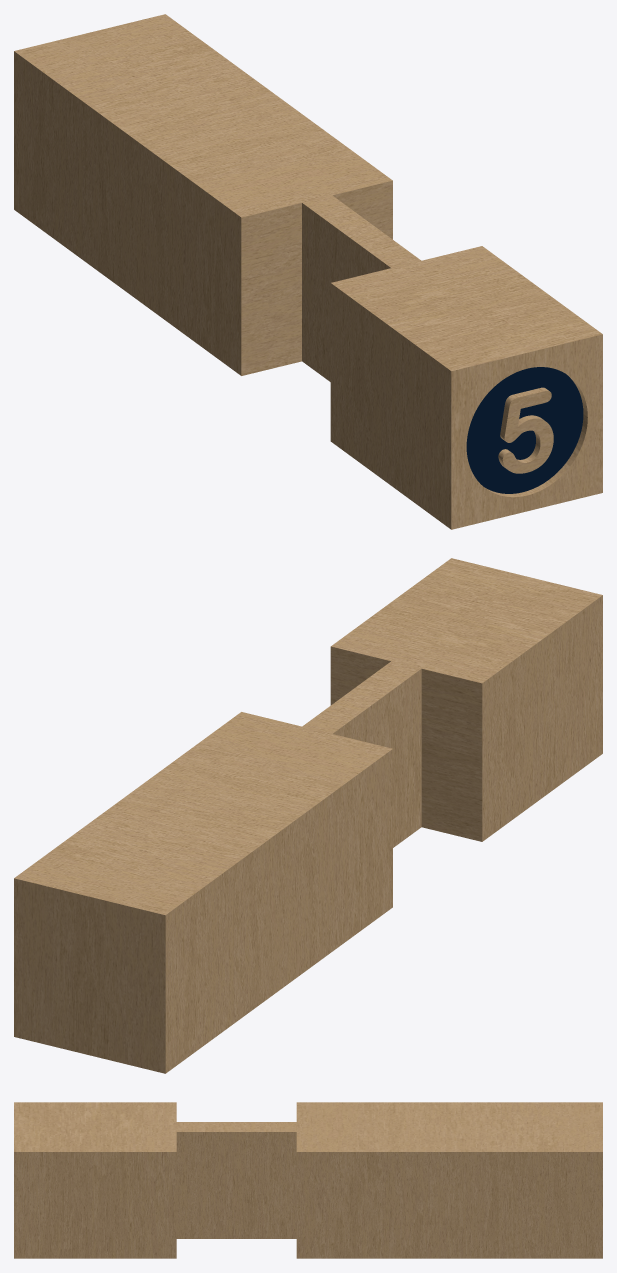
File: Piece5.glb
The picture shows the model from 3 angles, top to bottom: view 1: azimuth 30°, elevation 25°; view 2: azimuth 150°, elevation 25°; view 3: azimuth 270°, elevation 25°; orthographic projection. The views are drawn at different scales.
Parts seen in each view (by area): view 1: Piece5; view 2: Piece5; view 3: Piece5.
Part boxes in pixels (left/top/right/bottom): Piece5: left=14, top=14, right=602, bottom=529; Piece5: left=14, top=558, right=602, bottom=1073; Piece5: left=14, top=1102, right=602, bottom=1258.
Size of the model in its own units: 10 by 10 by 50.
2 materials, 1 textured.
